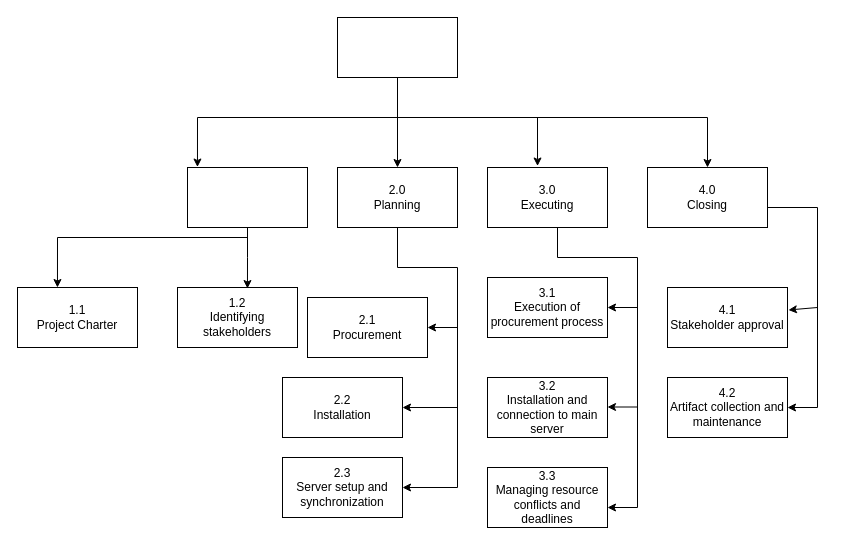
Some shapes in this 843 by 545 pixel diagram are drawn without their labels. The box of each missing label's shape, as (x1, y1, x2, y2) in pixels:
1.0 Initiating: (186, 166, 308, 228)
Organizational Expansion: (336, 16, 458, 78)
